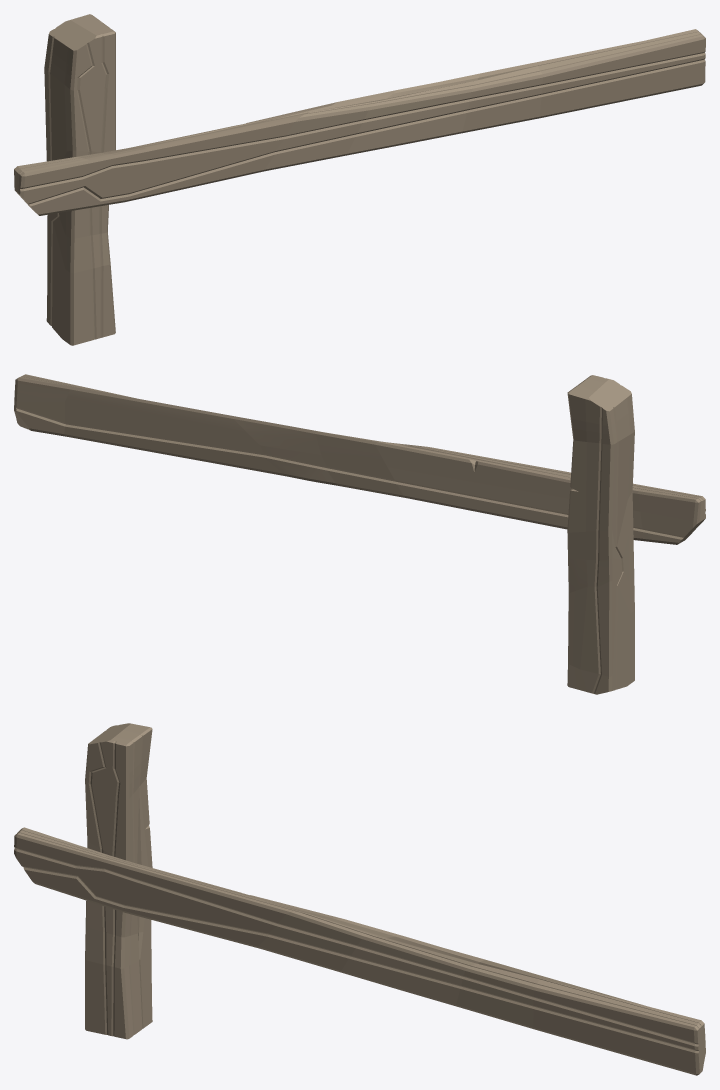
Rendered from fence01.fbx.
3 renders of one model, top to bottom at view 1: azimuth 30°, elevation 25°; view 2: azimuth 150°, elevation 25°; view 3: azimuth 330°, elevation 25°, orthographic. The views are drawn at different scales.
Parts seen in each view (by area): view 1: poutre11; view 2: poutre11; view 3: poutre11.
Part boxes in pixels (x1,y1,x2,y2): poutre11: [14, 14, 705, 345]; poutre11: [14, 374, 705, 694]; poutre11: [14, 723, 705, 1075].
Size of the model in its own units: 36.3 by 15.21 by 3.4.
